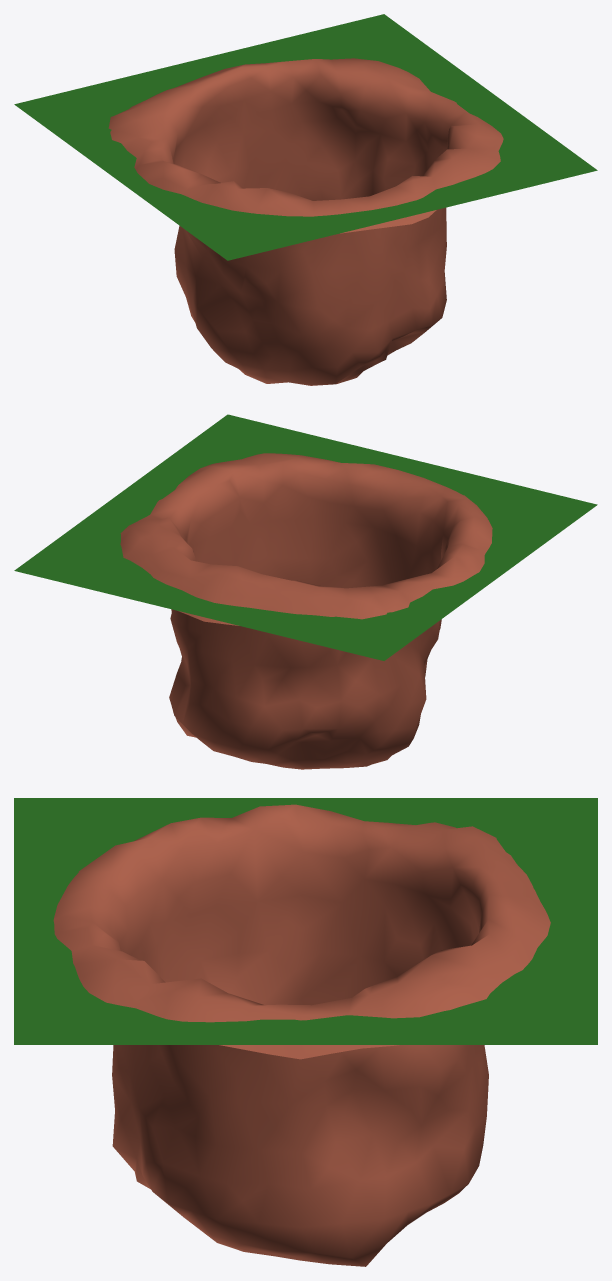
The model's file is Hole.fbx.
3 renders of one model, top to bottom at view 1: azimuth 30°, elevation 25°; view 2: azimuth 150°, elevation 25°; view 3: azimuth 270°, elevation 25°, orthographic. The views are drawn at different scales.
Visible parts, largest first — view 1: Plane; view 2: Plane; view 3: Plane.
Boxes of the visible parts, x1,y1,x2,y2 form: Plane: (14,14,597,385); Plane: (14,414,597,769); Plane: (14,798,597,1266).
Size of the model in its own units: 100 by 61.71 by 100.
